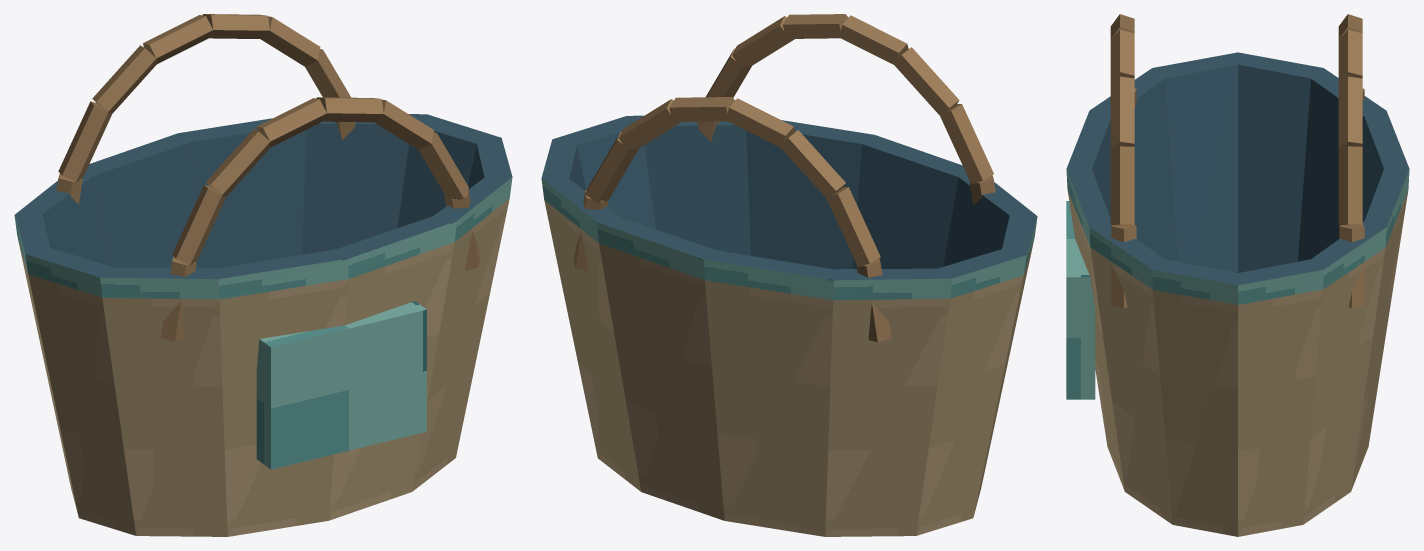
The model's file is tote.glb.
3 renders of one model, left to right at view 1: azimuth 30°, elevation 25°; view 2: azimuth 150°, elevation 25°; view 3: azimuth 270°, elevation 25°, orthographic.
Visible parts, largest first — view 1: tote; view 2: tote; view 3: tote.
Boxes of the visible parts, <box> form: tote: <box>14,14,512,536</box>; tote: <box>541,14,1037,536</box>; tote: <box>1066,14,1409,536</box>.
Bounding box in the file's own units: 0.498 × 0.4171 × 0.31.
Materials: 1 (1 with a texture image).
